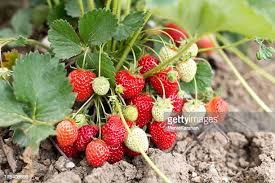ripe: (66, 68, 96, 105), (97, 114, 129, 147), (114, 69, 146, 100), (150, 115, 177, 151), (131, 91, 157, 125), (149, 67, 177, 98), (85, 135, 107, 169), (74, 120, 97, 150), (171, 86, 193, 116), (104, 138, 127, 166), (56, 136, 81, 161), (136, 48, 158, 75)
unripe: (181, 98, 207, 131), (123, 125, 151, 154), (203, 95, 228, 125), (175, 54, 197, 82), (55, 119, 77, 146), (151, 96, 172, 122), (158, 42, 180, 66), (90, 75, 111, 96), (178, 39, 199, 59), (123, 101, 140, 123)
